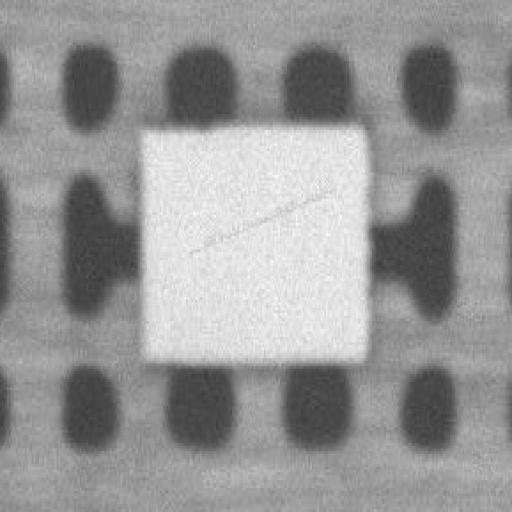DIE_CRACK: (281, 124, 499, 167)
